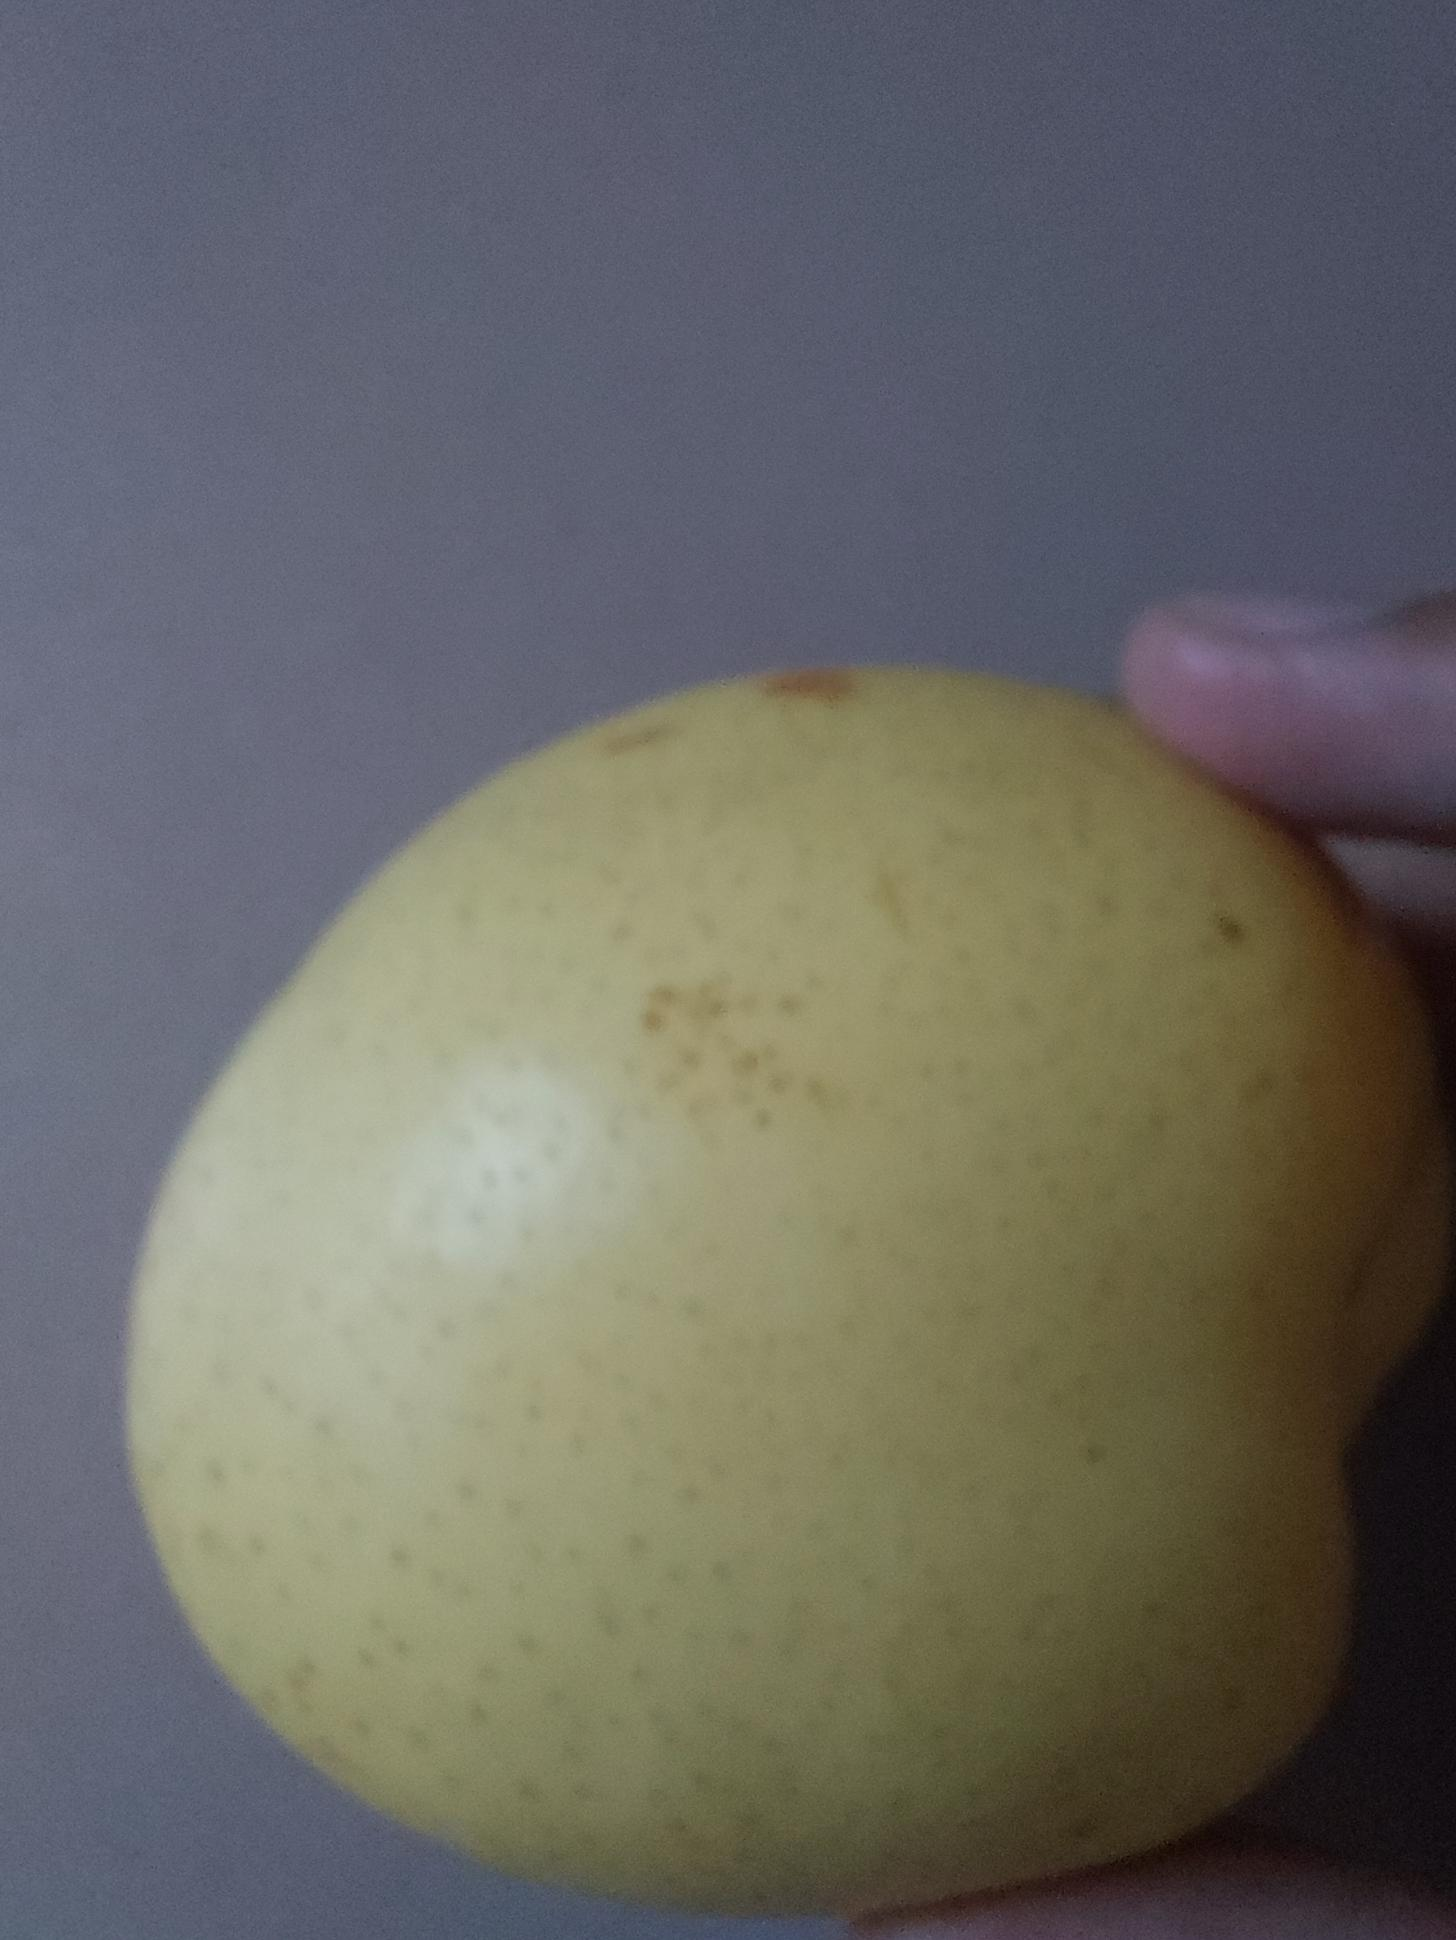Good Pear: (109, 654, 1456, 1917)
